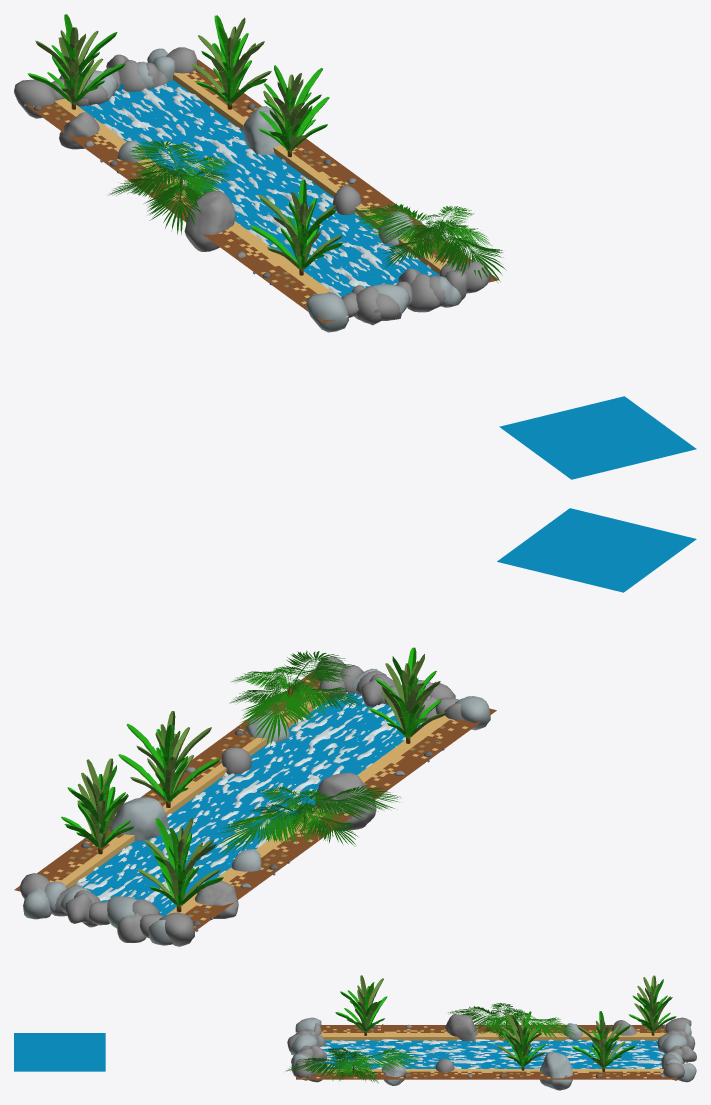
Rendered from rivièreV2.fbx.
3 renders of one model, top to bottom at view 1: azimuth 30°, elevation 25°; view 2: azimuth 150°, elevation 25°; view 3: azimuth 270°, elevation 25°, orthographic. The views are drawn at different scales.
Parts seen in each view (by area): view 1: buisson, Plane.001, Plane, Plane.003, Plane.002; view 2: buisson, Plane.001, Plane, Plane.003, Plane.002; view 3: buisson, Plane, Plane.001, Plane.003, Plane.002.
Part boxes in pixels (x1,y1,x2,y2): buisson: (14,14,506,332); Plane.001: (79,80,439,296); Plane: (24,59,498,322); Plane.003: (499,396,696,479); Plane.002: (85,84,431,317); buisson: (20,647,490,946); Plane.001: (74,693,427,916); Plane: (14,670,496,931); Plane.003: (497,508,696,592); Plane.002: (76,692,423,912); buisson: (286,975,696,1090); Plane: (296,1024,677,1079); Plane.001: (314,1040,665,1068); Plane.003: (14,1033,105,1071); Plane.002: (320,1039,664,1068).
Bounding box in the file's own units: 390 × 174 × 1489.
